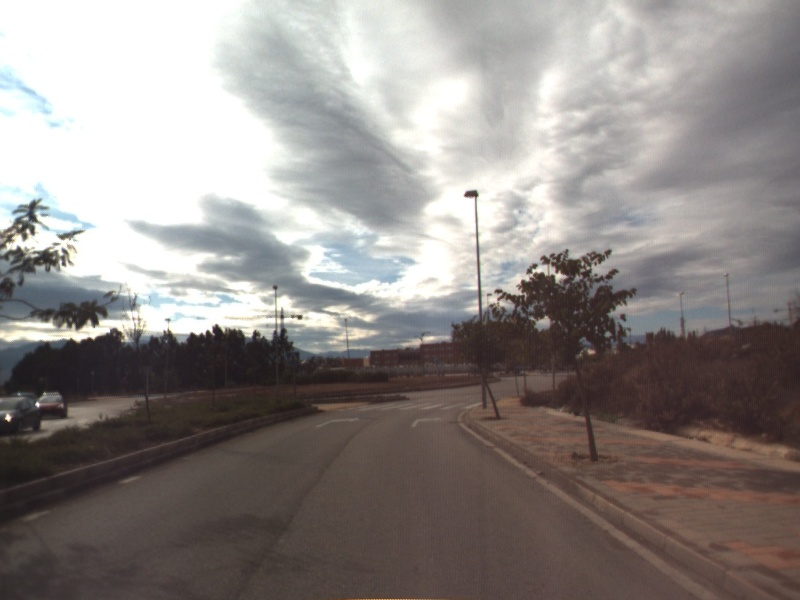RIGHT: (313, 414, 362, 430), (409, 414, 446, 429)
